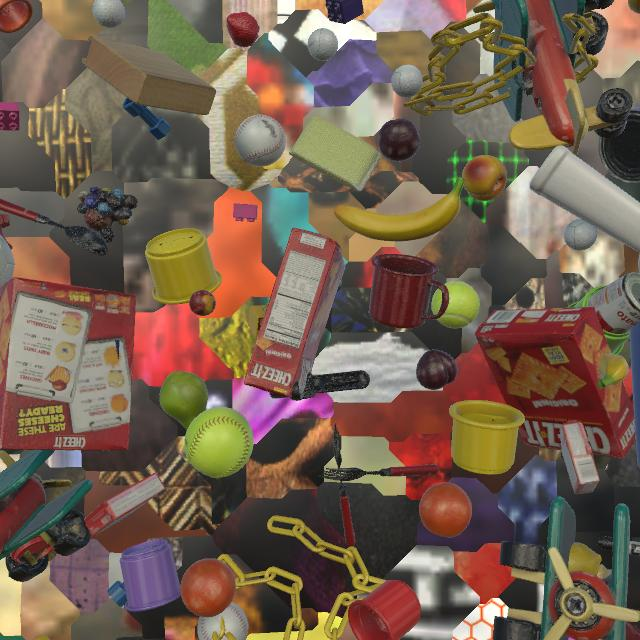ycb_002_master_chef_can: (599, 106, 640, 184)
ycb_003_cracker_box: (475, 307, 636, 459), (0, 277, 136, 450), (244, 228, 346, 397)
ycb_005_tomato_soup_can: (588, 272, 640, 334)
ycb_009_gelatin_box: (84, 472, 166, 536), (560, 420, 600, 495)
ycb_011_banana: (334, 177, 465, 241), (597, 353, 629, 389), (628, 0, 640, 14)
ycb_012_strawberry: (226, 12, 260, 47)
ycb_014_lemon: (568, 543, 602, 576)
ycb_015_peach: (462, 155, 507, 201)
ycb_016_pear: (159, 371, 208, 430)
ycb_017_orange: (180, 558, 236, 617), (419, 482, 472, 537)
ycb_018_plum: (378, 118, 420, 162), (416, 349, 457, 390)
